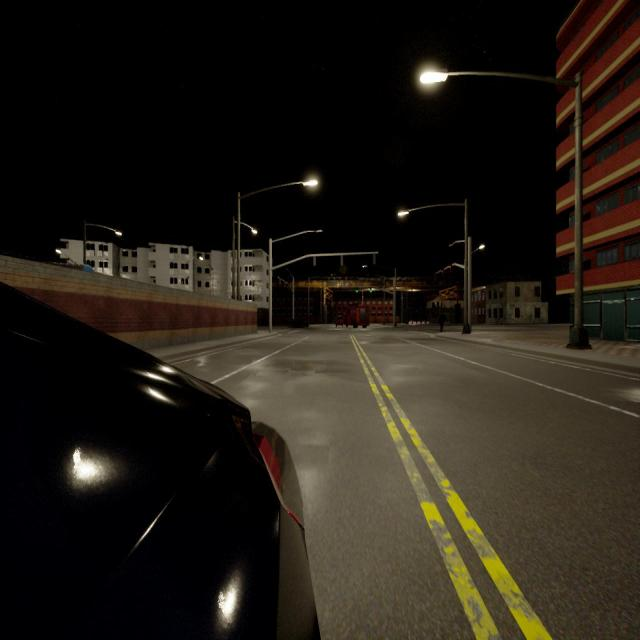Pedestrian: (439, 310, 444, 332)
Vehicle: (0, 285, 310, 638), (354, 307, 369, 328), (288, 319, 308, 328), (336, 314, 343, 327)
traffic_light: (373, 254, 376, 264), (340, 255, 343, 265), (313, 256, 316, 266), (370, 287, 372, 293), (356, 288, 358, 293), (442, 270, 444, 273), (449, 266, 452, 268)
